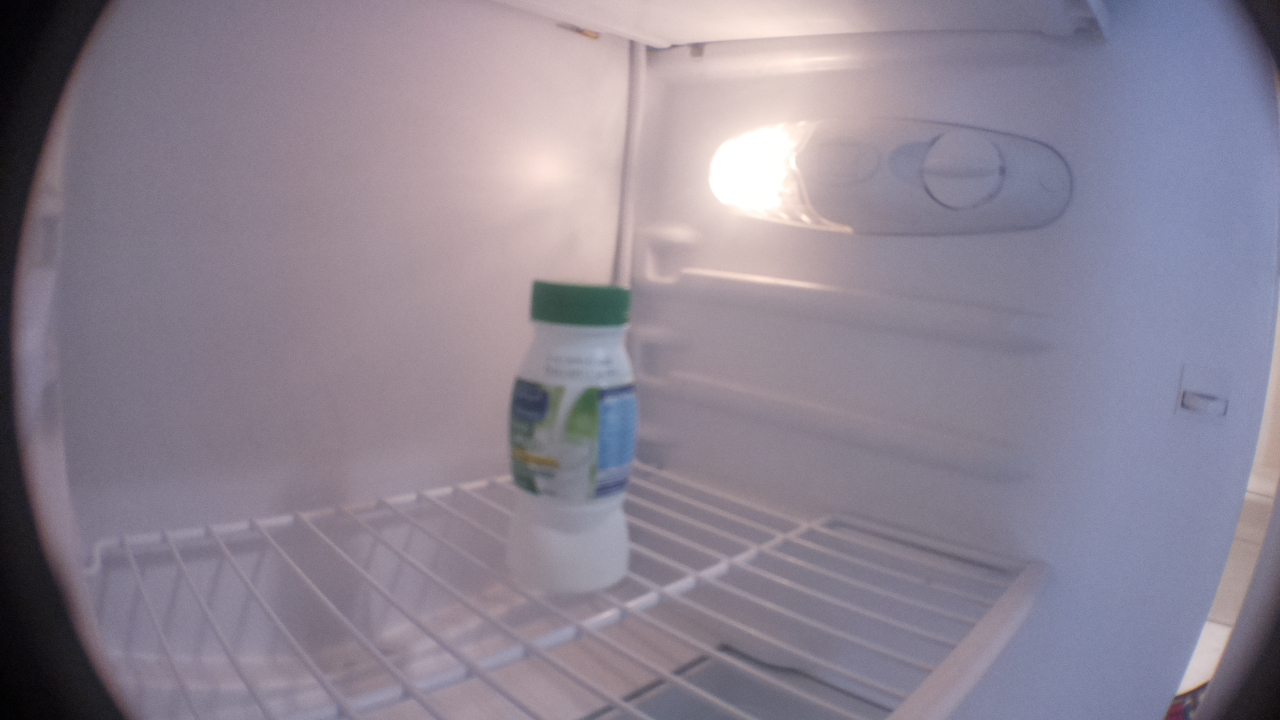laban: (505, 276, 635, 601)
